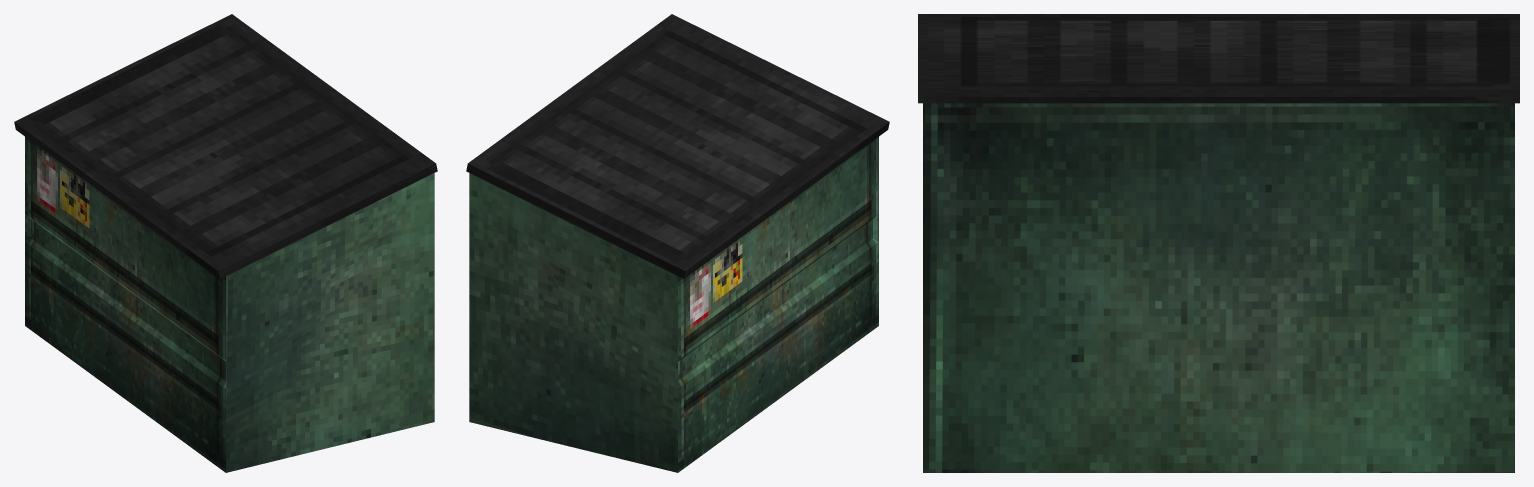
File: dumpster.glb
3 renders of one model, left to right at view 1: azimuth 30°, elevation 25°; view 2: azimuth 150°, elevation 25°; view 3: azimuth 270°, elevation 25°, orthographic. The views are drawn at different scales.
Visible parts, largest first — view 1: Body, Lid; view 2: Body, Lid; view 3: Body, Lid.
Boxes of the visible parts, <box> form: Body: <box>25,137,434,472</box>; Lid: <box>14,14,437,278</box>; Body: <box>469,137,878,472</box>; Lid: <box>466,14,889,278</box>; Body: <box>923,103,1514,472</box>; Lid: <box>918,14,1519,103</box>.
Size of the model in its own units: 2.36 by 2.68 by 3.81.
Materials: 2 (2 with a texture image).
